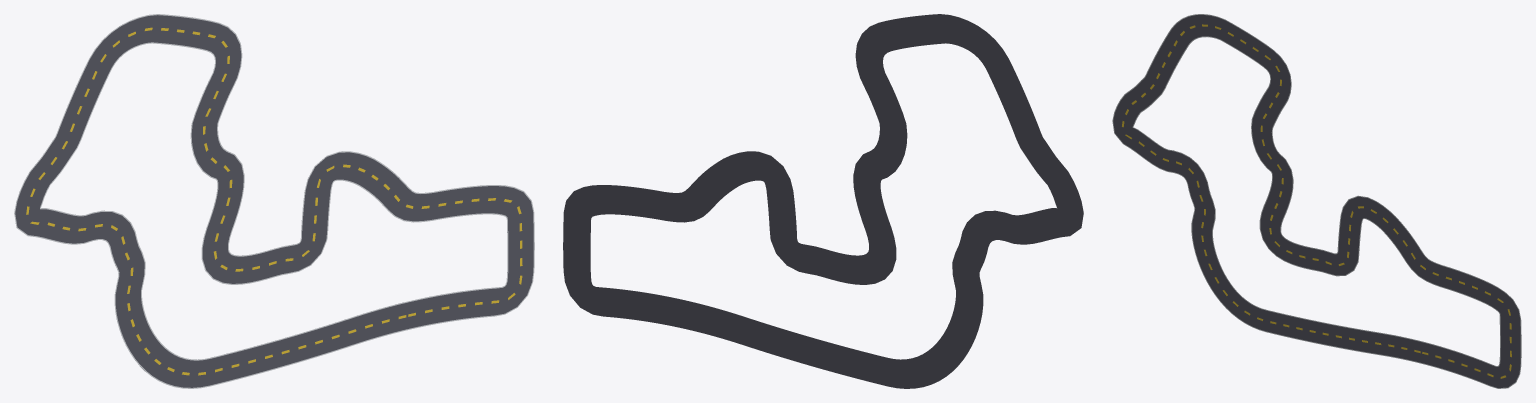
Rendered from track.obj.
3 views of the same model, side by side, from view 1: azimuth 30°, elevation 25°; view 2: azimuth 150°, elevation 25°; view 3: azimuth 330°, elevation 25° (orthographic). The views are drawn at different scales.
Size of the model in its own units: 20.26 by 14.38 by 0.002.
